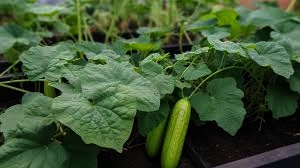cucumber: (159, 99, 192, 166)
cucumber_plant: (28, 43, 139, 150)
